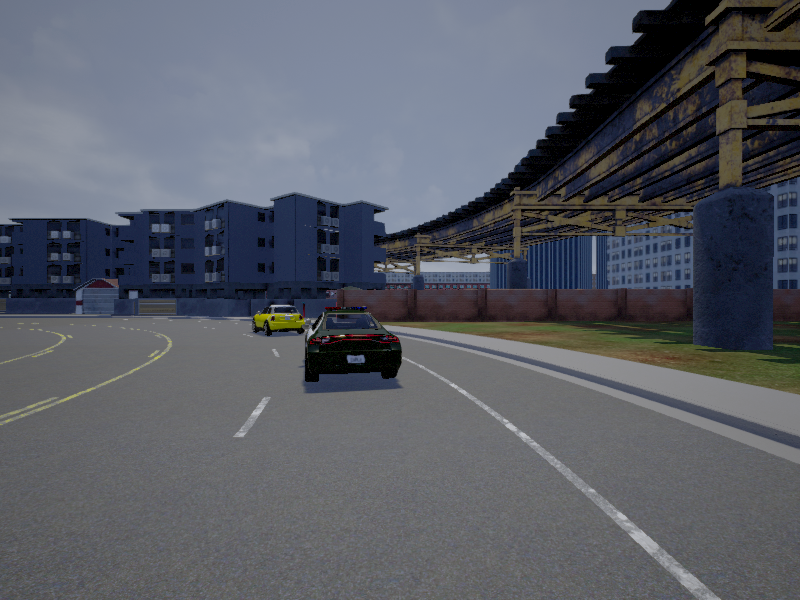Benign: (306, 307, 403, 385), (252, 304, 307, 337)
